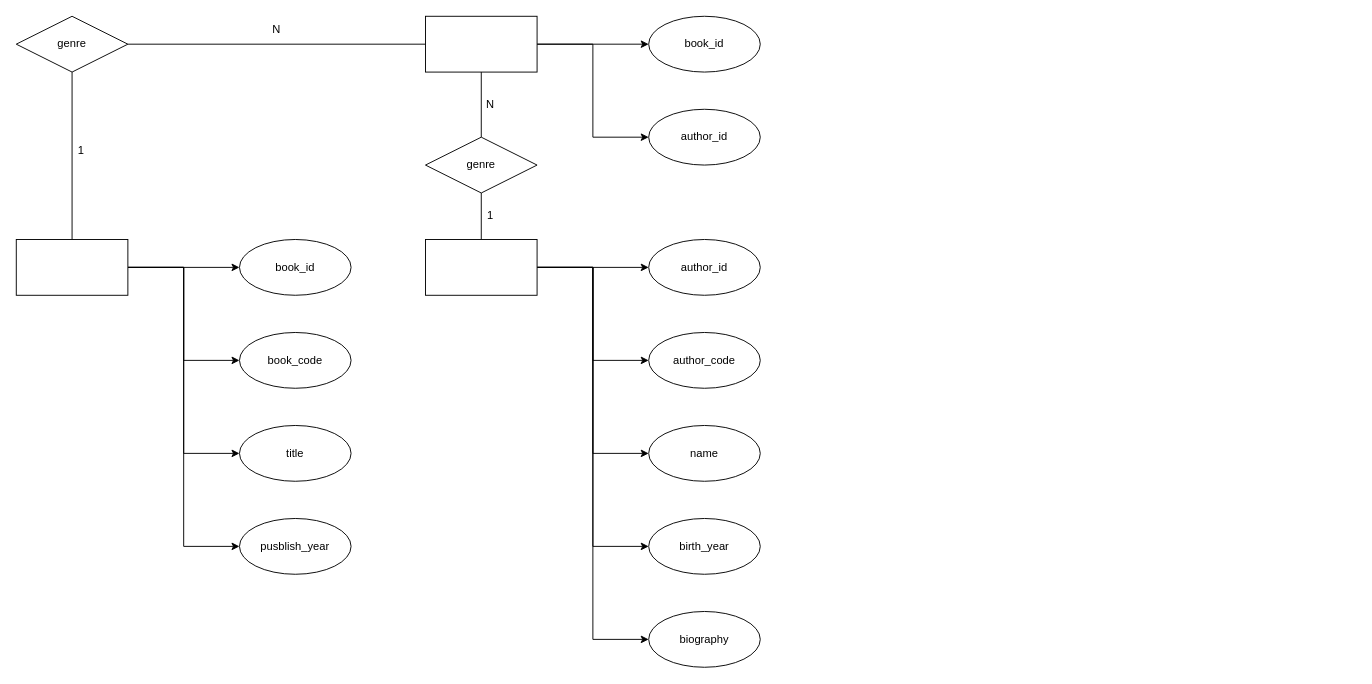
Image size: 1372x684. Some labels were removed from this diagram. Here are the shapes that lost their labels. From the top down, the centre of each, then its label:
At point (481, 43): "book_author".
At point (71, 267): "books".
At point (481, 267): "authors".
